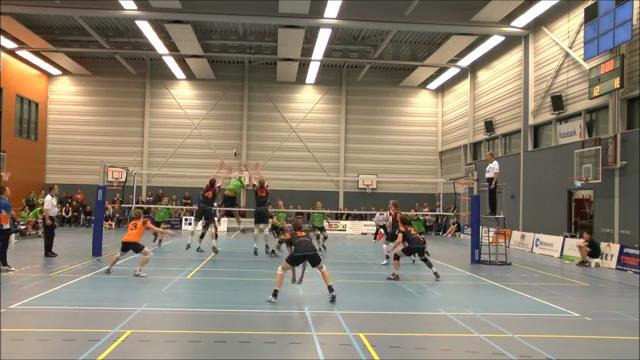Attack: (217, 162, 245, 228)
Block: (185, 156, 231, 253), (240, 158, 274, 255)
Player: (267, 219, 335, 302), (105, 209, 172, 276), (387, 215, 439, 280), (381, 200, 400, 264), (310, 202, 327, 250), (270, 200, 287, 239), (154, 197, 170, 228), (373, 212, 388, 241)
ball: (232, 149, 240, 157)
